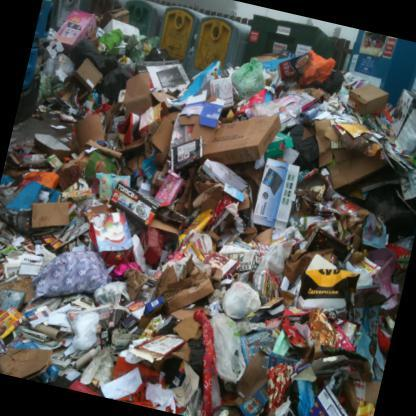Garbage: (0, 0, 415, 415), (12, 232, 243, 415), (0, 283, 150, 403), (276, 298, 364, 372), (75, 14, 164, 74), (98, 96, 172, 167), (192, 312, 249, 401), (226, 50, 295, 114), (0, 199, 42, 297), (274, 380, 377, 415), (246, 233, 306, 291), (212, 282, 268, 341), (288, 172, 344, 230), (75, 174, 135, 228), (53, 308, 108, 366), (21, 143, 84, 186), (357, 205, 405, 261), (34, 93, 88, 142), (90, 275, 146, 320), (284, 306, 318, 355)
